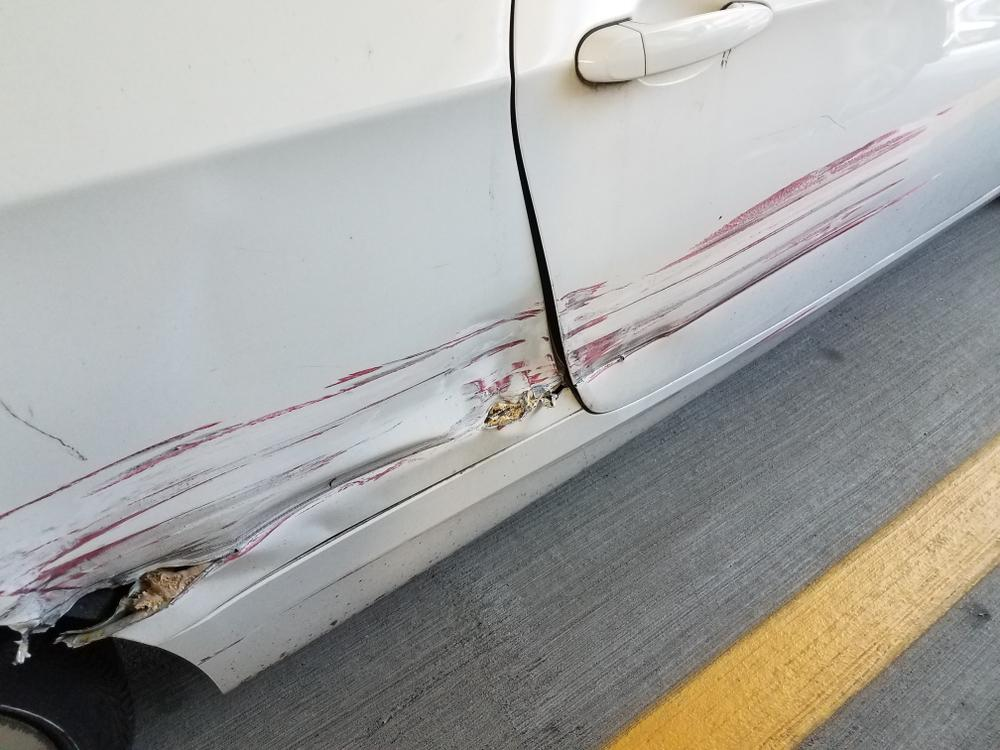crack: (52, 563, 213, 639)
dent: (449, 286, 560, 442), (298, 508, 359, 539)
scratch: (0, 334, 465, 636), (556, 95, 962, 395)
